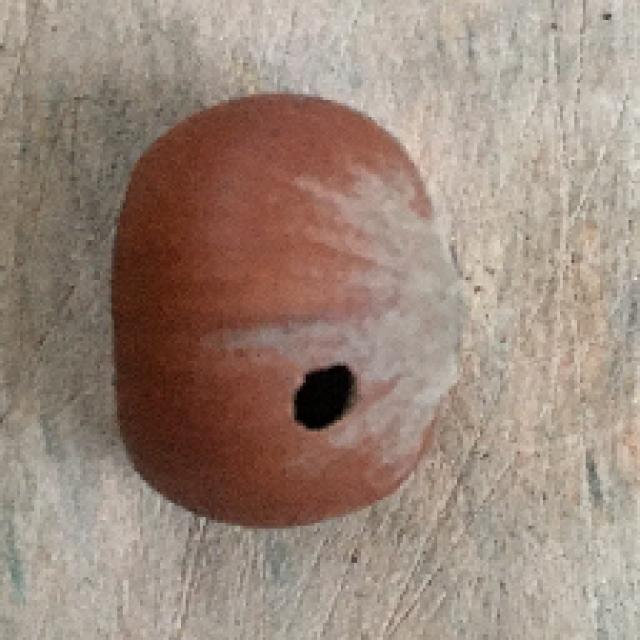damagedHazelnut: (94, 83, 475, 538)
